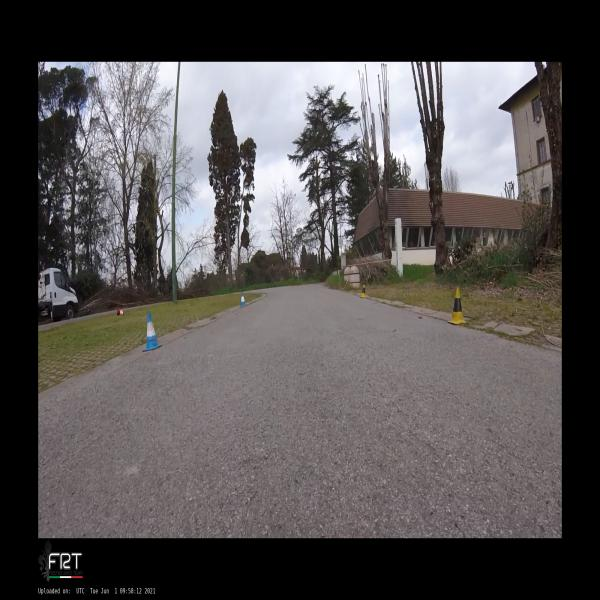blue_cone: (142, 312, 162, 352), (240, 291, 248, 307)
orange_cone: (117, 306, 124, 315)
yellow_cone: (447, 286, 468, 324), (359, 284, 367, 299)
